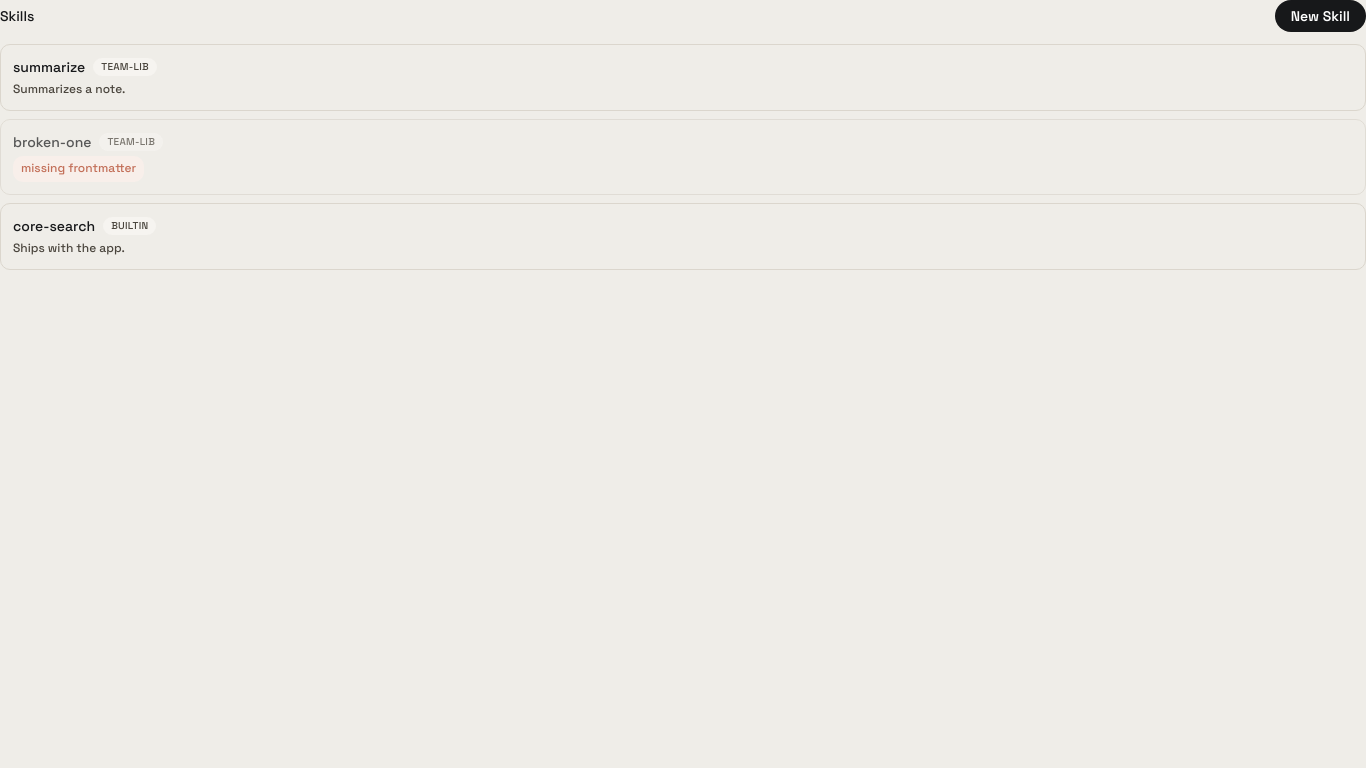
it: <SkillsBrowser /> › New Skill offers only the non-builtin libraries present, creates, and opens the result
This screenshot has width=1366, height=768.
Expected: the button with test id "skill-card-summarize" is shown, [0, 44, 1365, 111]
Click the button "New Skill". click: (1320,16)
box: [1275, 0, 1365, 32]
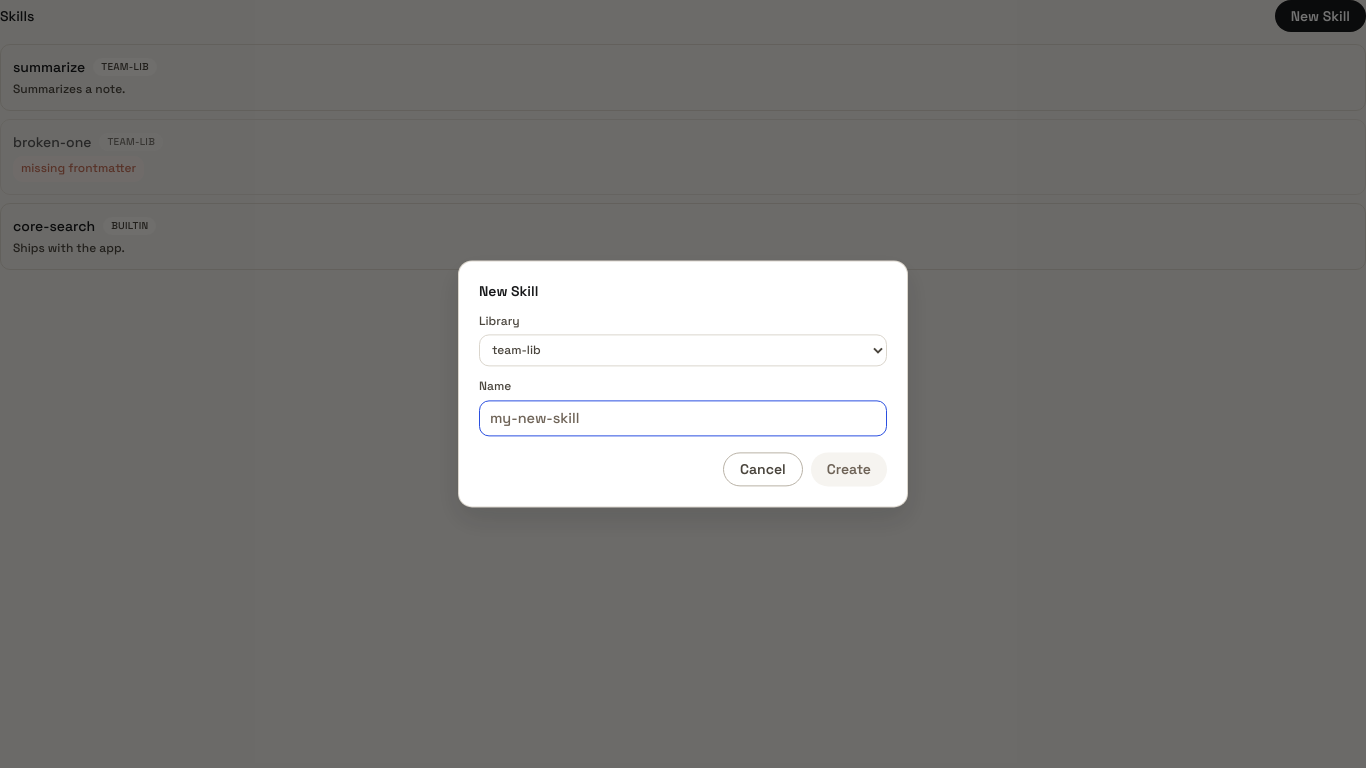
Type "new-thing" into the field labelled "Name". click: (683,418)
box: [479, 400, 887, 437]
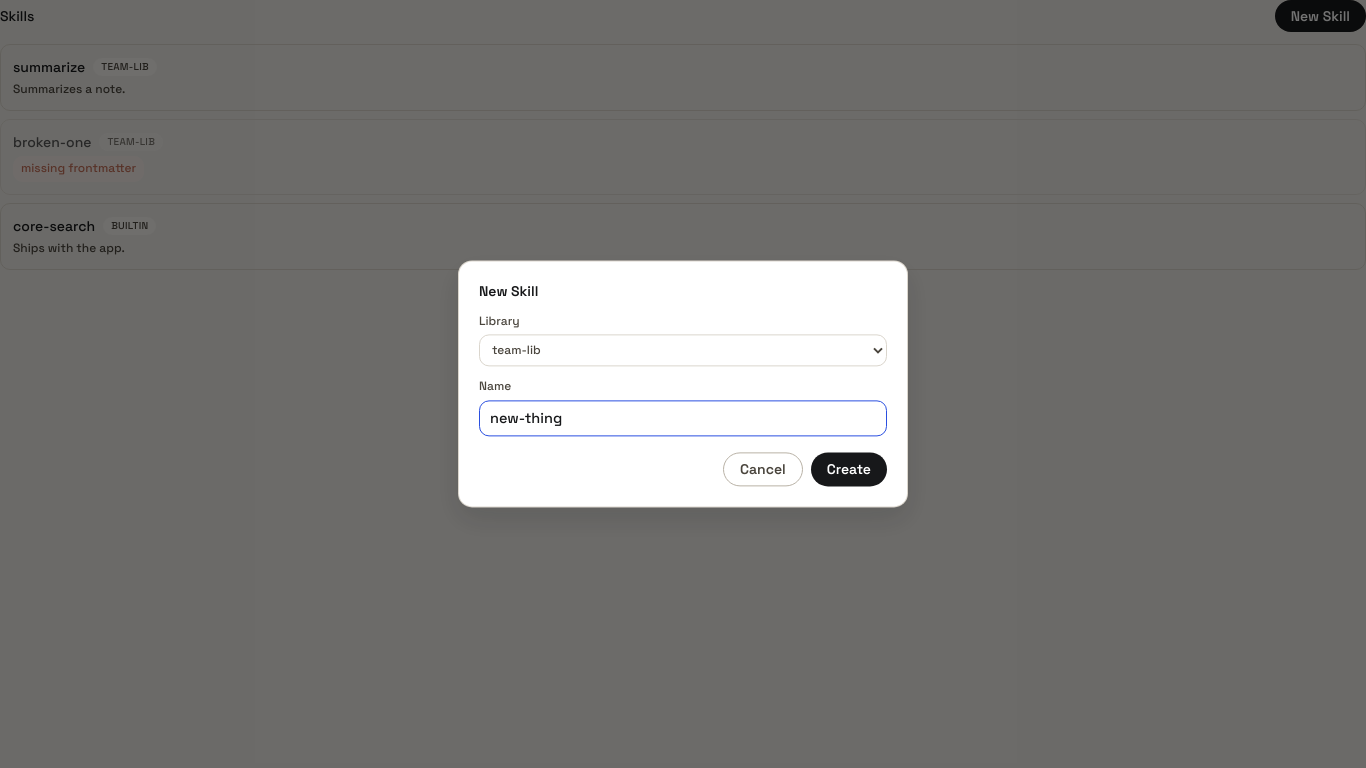
Click the button "Create". click: (849,470)
box: [811, 453, 887, 487]
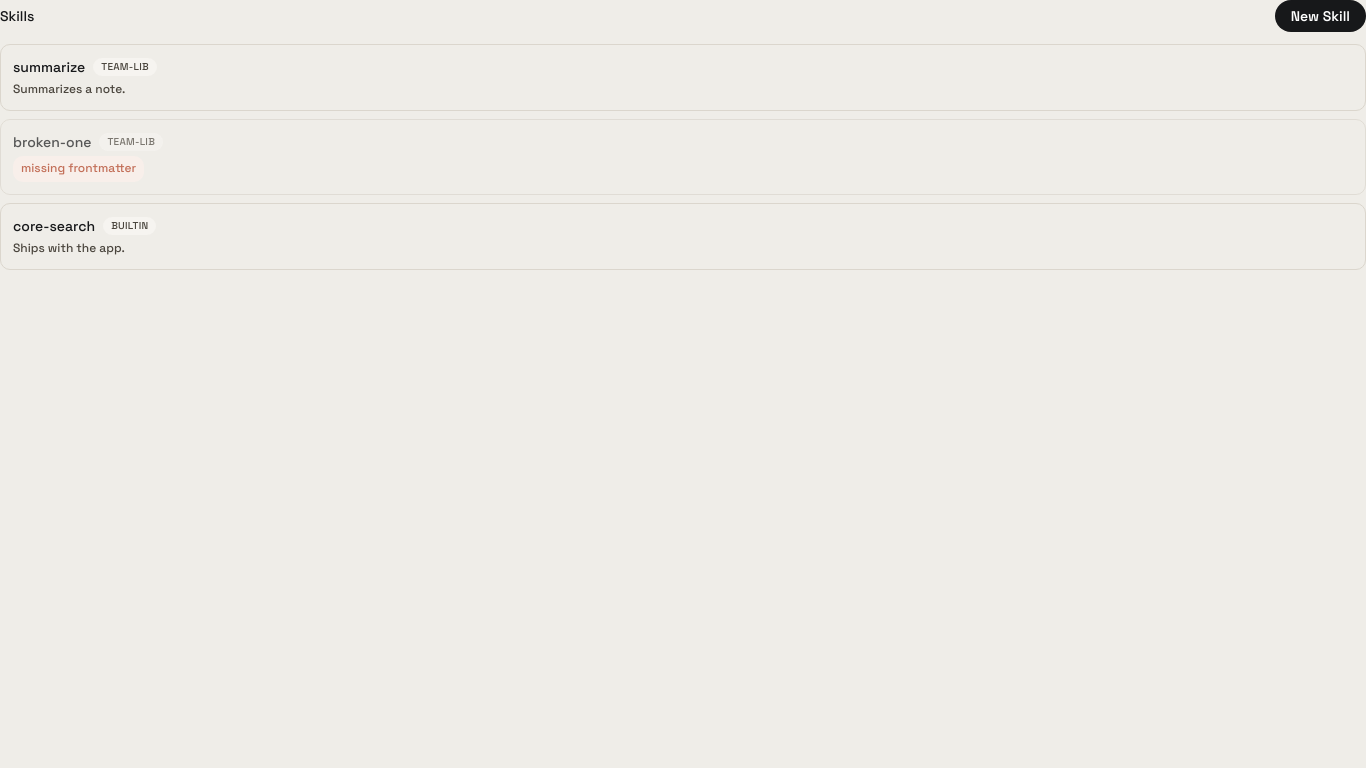
Expected: the dialog is gone
